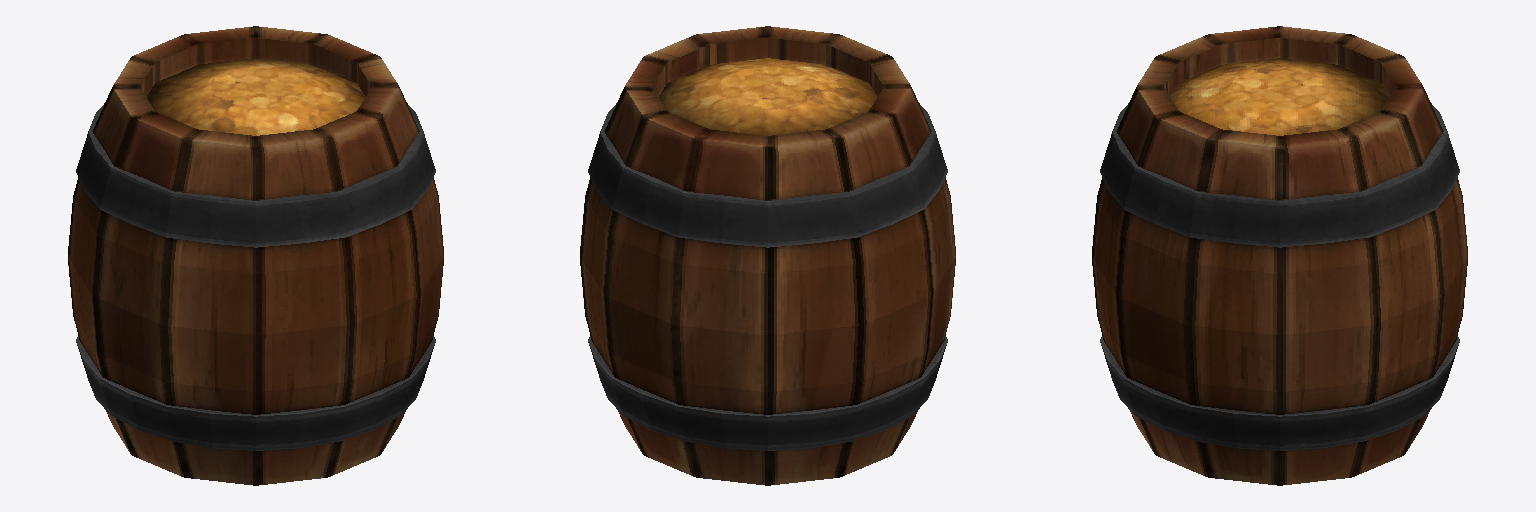
3 views of the same model, side by side, from view 1: azimuth 30°, elevation 25°; view 2: azimuth 150°, elevation 25°; view 3: azimuth 270°, elevation 25° (orthographic).
Visible parts, largest first — view 1: Barrel_m_Mesh; view 2: Barrel_m_Mesh; view 3: Barrel_m_Mesh.
Boxes of the visible parts, <box> form: Barrel_m_Mesh: <box>68,26,443,485</box>; Barrel_m_Mesh: <box>580,26,955,485</box>; Barrel_m_Mesh: <box>1092,26,1467,485</box>.
Bounding box in the file's own units: 1.01 × 1 × 1.01.
1 materials, 1 textured.